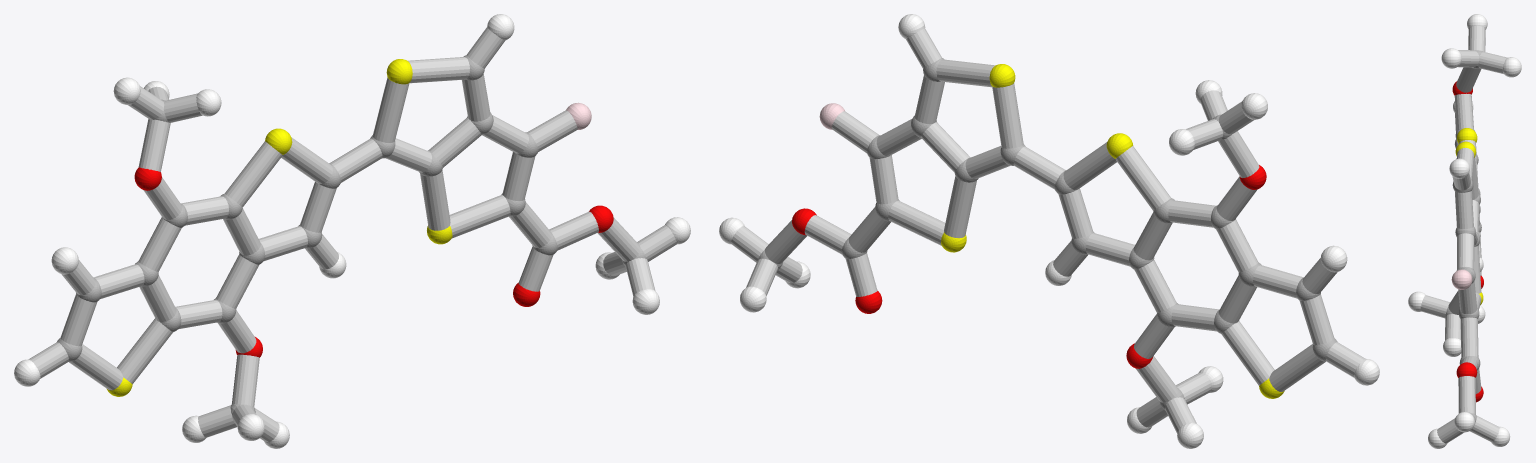
The model's file is Dimethoxy_Benzodithiophene_Phi_5_Theta_180_Methylcarbonyl_3_Fluoro_Thienothiophene.glb.
3 renders of one model, left to right at view 1: azimuth 30°, elevation 25°; view 2: azimuth 150°, elevation 25°; view 3: azimuth 270°, elevation 25°, orthographic. The views are drawn at different scales.
Parts seen in each view (by area): view 1: grp15205, grp8689, grp1, grp7241, grp13395; view 2: grp15205, grp8689, grp1, grp7241, grp13395; view 3: grp15205, grp8689, grp1, grp13395, grp7241, grp14843.
Boxes of the visible parts, x1,y1,x2,y2 form: grp15205: [29, 27, 677, 442]; grp8689: [14, 14, 690, 448]; grp1: [57, 55, 646, 414]; grp7241: [107, 59, 452, 396]; grp13395: [134, 167, 613, 357]; grp15205: [731, 28, 1365, 433]; grp8689: [719, 14, 1379, 448]; grp1: [758, 58, 1337, 410]; grp7241: [941, 64, 1284, 398]; grp13395: [792, 165, 1266, 368]; grp15205: [1420, 25, 1507, 443]; grp8689: [1408, 14, 1521, 448]; grp1: [1445, 50, 1482, 421]; grp13395: [1452, 81, 1483, 402]; grp7241: [1455, 128, 1483, 305]; grp14843: [1451, 269, 1472, 289].
Bounding box in the file's own units: 16.96 × 9.39 × 3.3.
